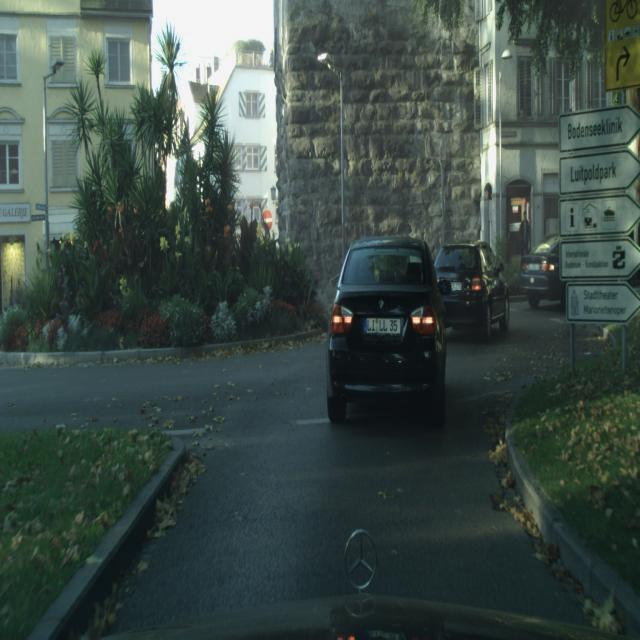person: (326, 234, 447, 426), (519, 233, 639, 309), (434, 241, 510, 341), (519, 234, 564, 309)
